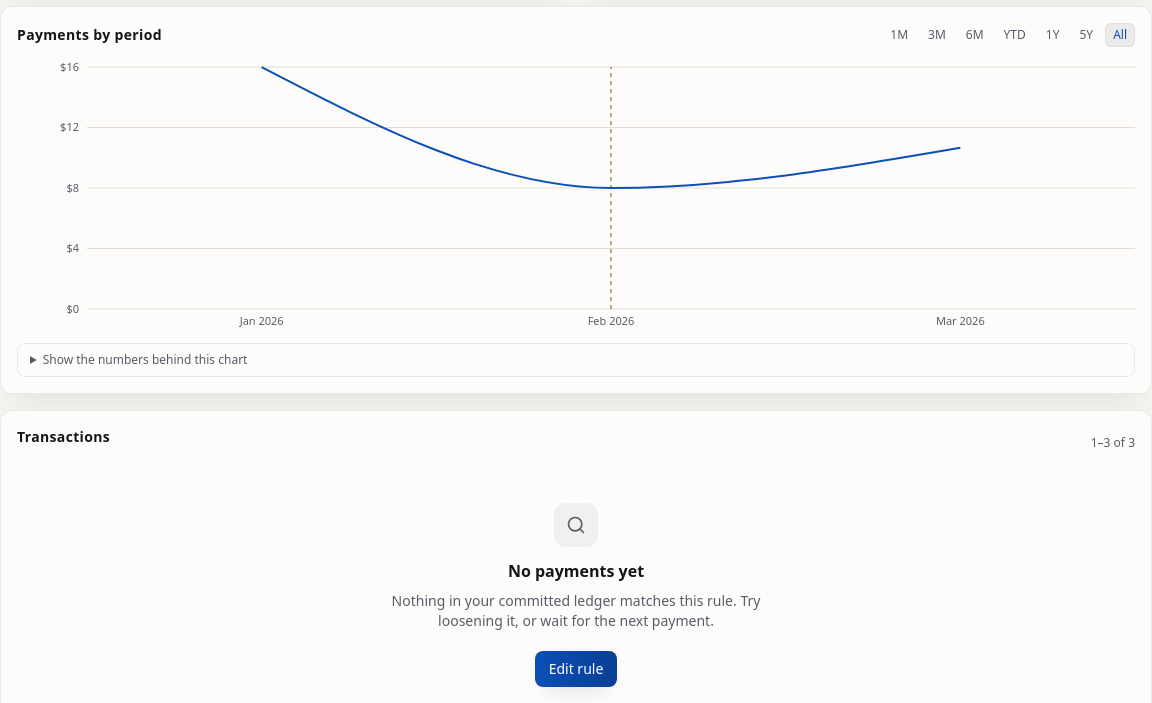
Test: the chart line and spending stats (M122 T3/T4) › describes the rolling line in the chart's text equivalent AND its fallback table
(page scrolled)
Click the heading "Show the numbers behind this chart" at (145, 360), box [43, 351, 247, 368]
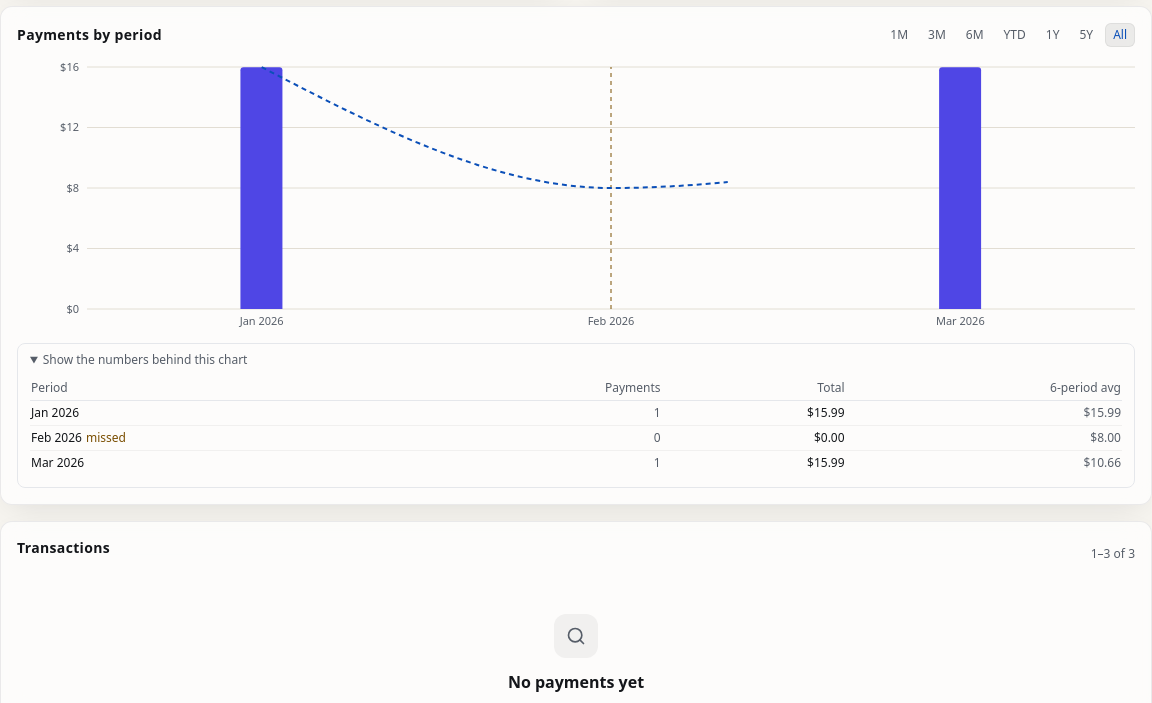
Check: the column heading "6-period avg" is shown, box [857, 376, 1122, 401]
Check: the text "$8.00" is shown, box [857, 426, 1122, 451]
Check: the text "$10.66" is shown, box [857, 451, 1122, 475]
